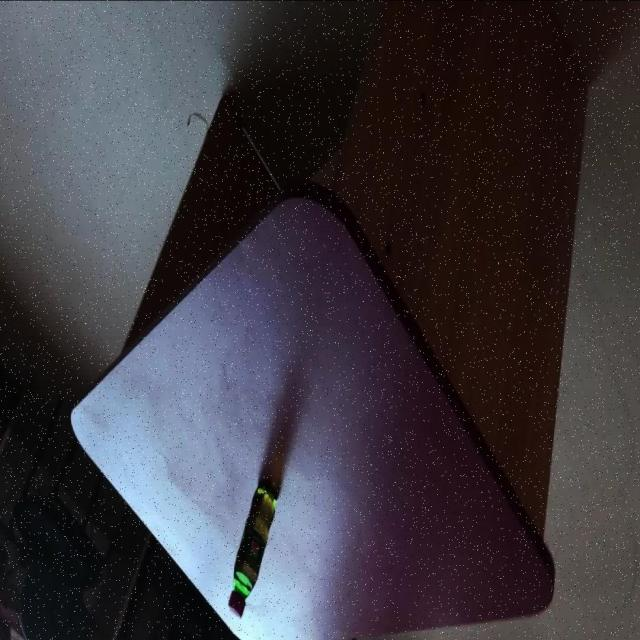Guarana: (69, 93, 556, 640), (226, 480, 278, 617)
